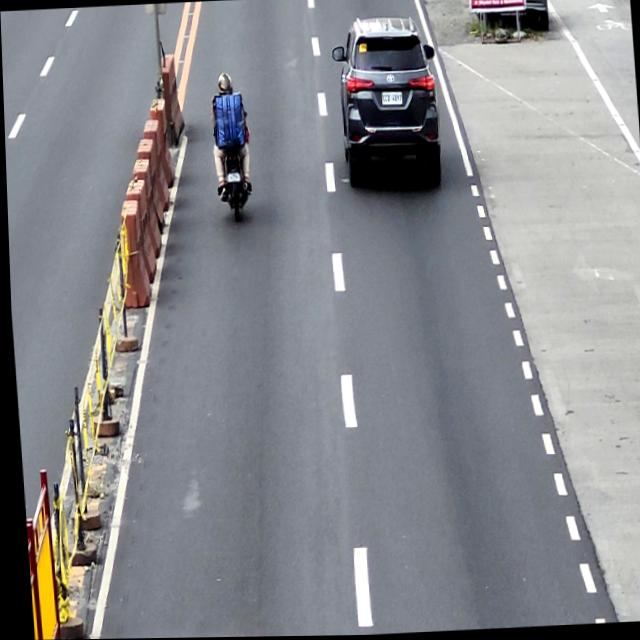Car: (329, 16, 443, 193)
License-Plate: (380, 91, 402, 107), (226, 171, 239, 183)
Motorcycle: (208, 109, 253, 224)
